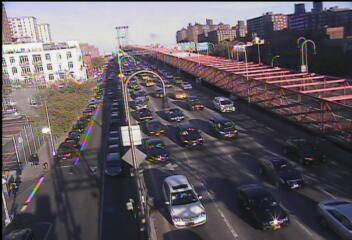neg: (62, 172, 93, 212), (279, 76, 306, 112), (36, 65, 63, 101), (175, 132, 200, 164), (229, 118, 253, 151), (114, 34, 136, 63), (131, 182, 152, 210), (221, 71, 241, 98), (125, 135, 145, 161), (160, 51, 179, 76), (100, 94, 118, 117), (47, 120, 63, 142), (205, 190, 221, 212)
pos: (30, 150, 44, 169)
